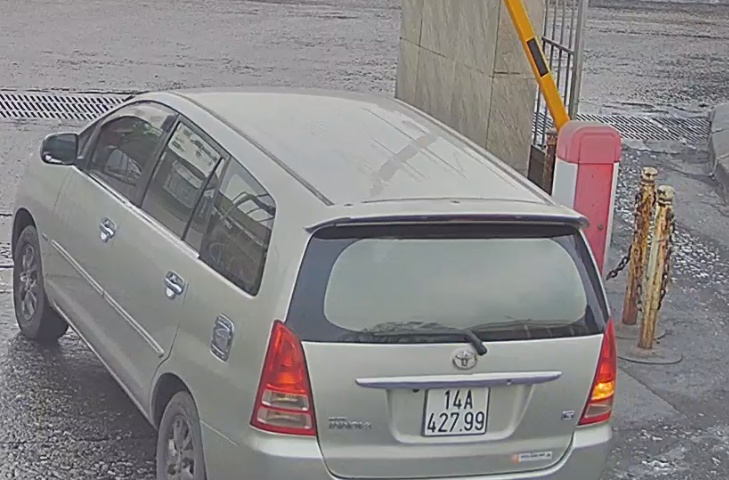vehicle plate: (422, 379, 489, 439)
